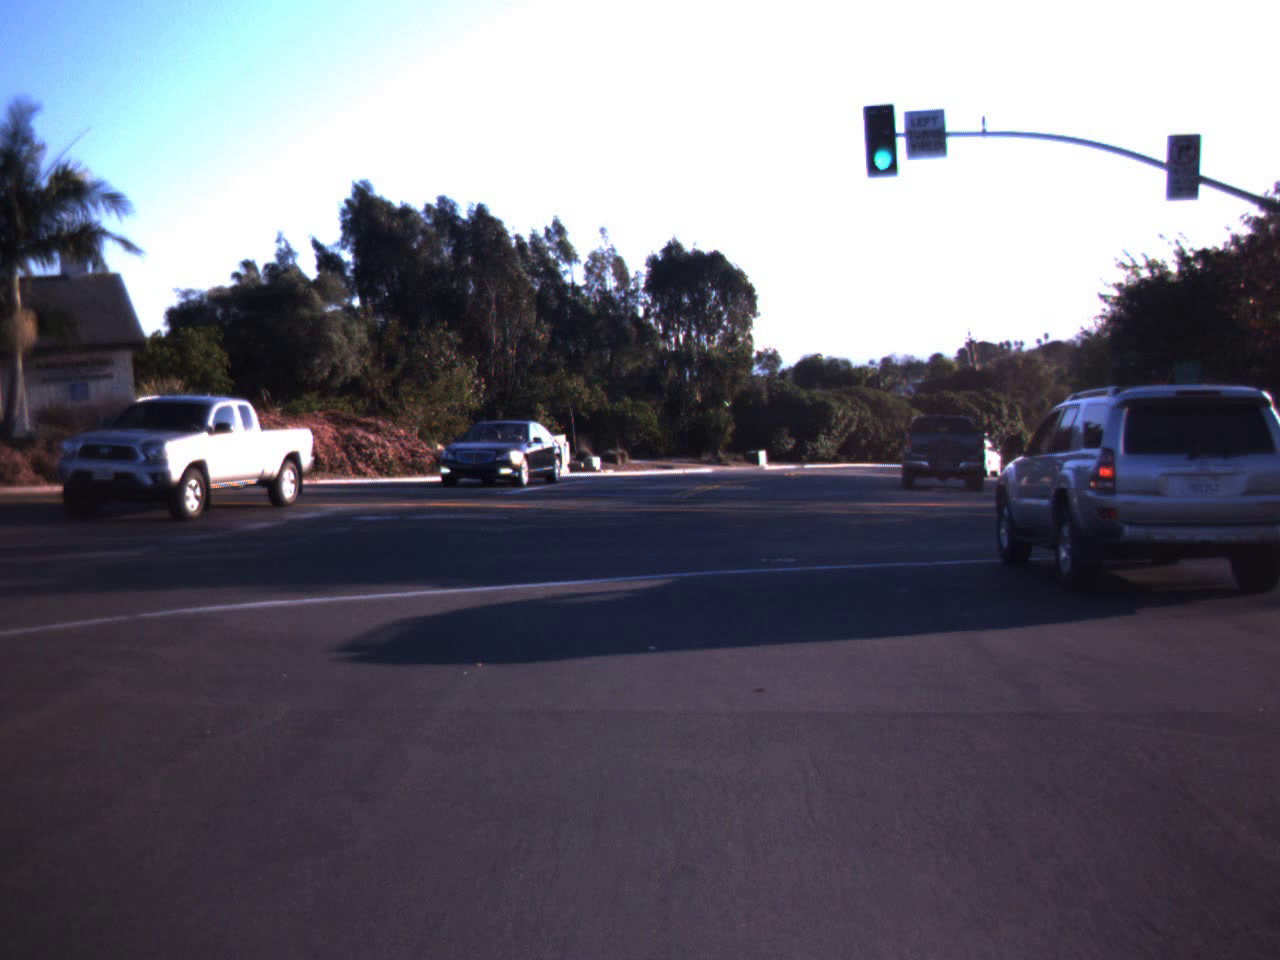go: (860, 92, 905, 177)
